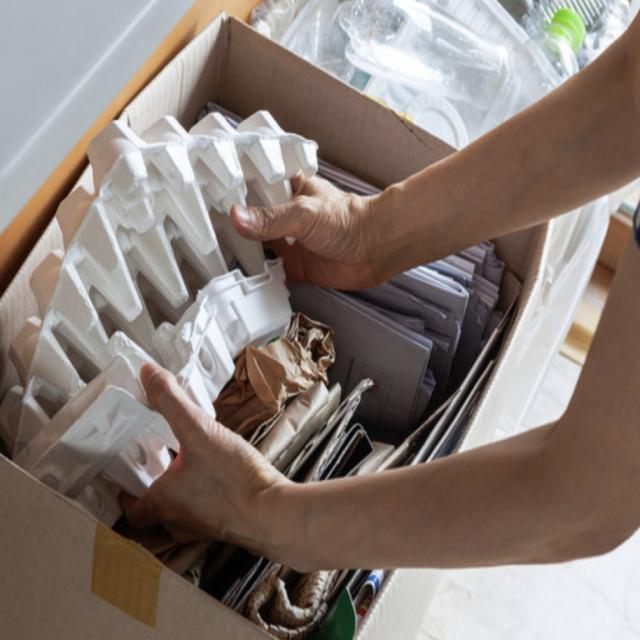biodegradable: (14, 75, 314, 476)
